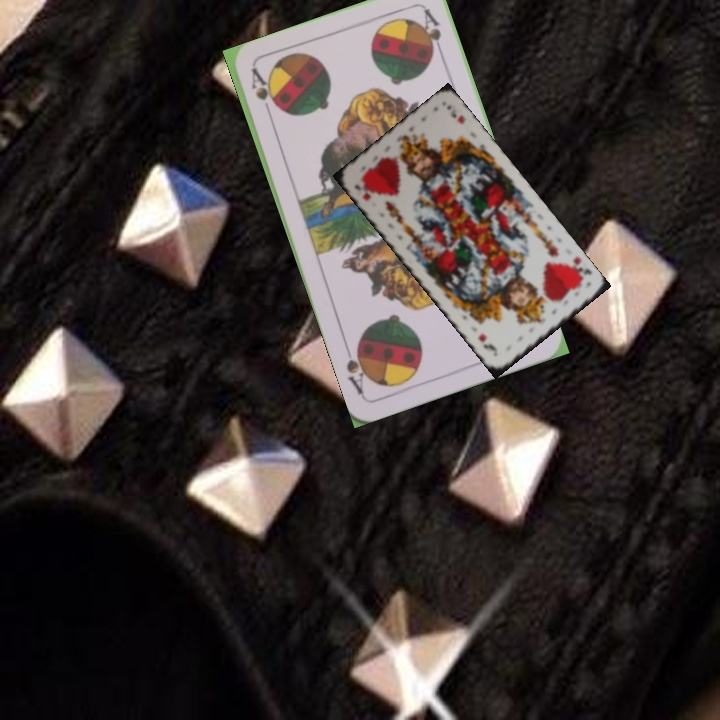HK: (561, 252, 595, 284), (350, 174, 375, 203)
SA: (247, 65, 277, 123)
